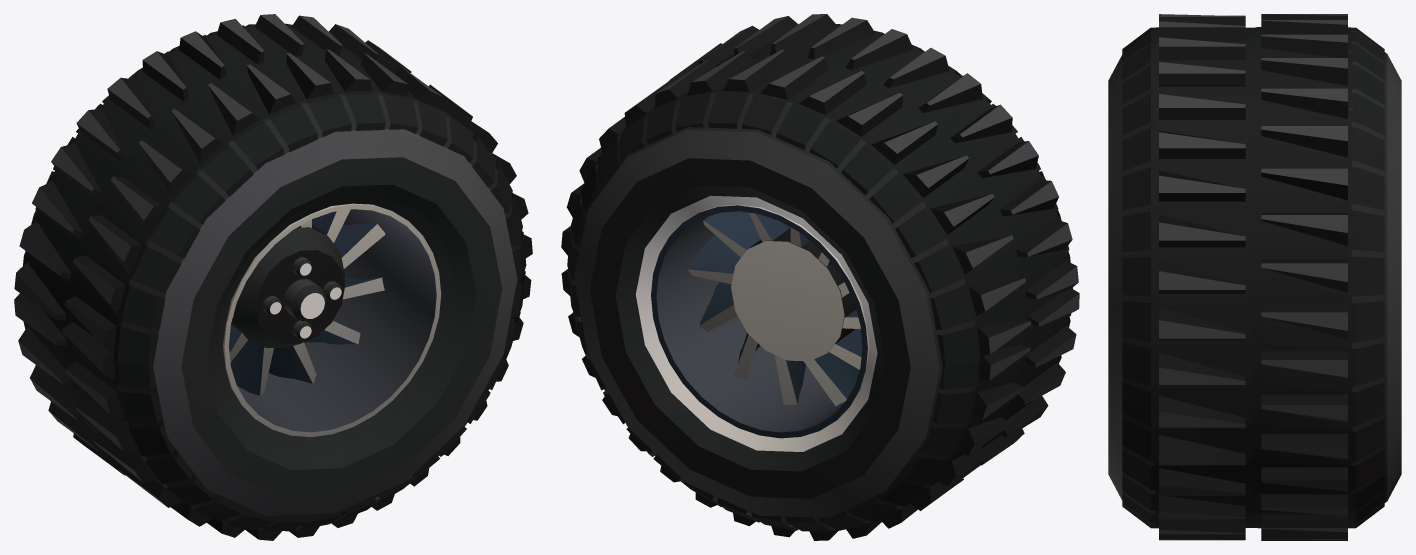
Rendered from wheel_05.fbx.
The picture shows the model from 3 angles, left to right: view 1: azimuth 30°, elevation 25°; view 2: azimuth 150°, elevation 25°; view 3: azimuth 270°, elevation 25°; orthographic projection. The views are drawn at different scales.
Parts seen in each view (by area): view 1: wheel_05; view 2: wheel_05; view 3: wheel_05.
Part boxes in pixels (x1,y1,x2,y2): wheel_05: [14, 14, 532, 540]; wheel_05: [561, 14, 1079, 540]; wheel_05: [1108, 14, 1401, 540].
Bounding box in the file's own units: 108 × 108 × 60.22.
